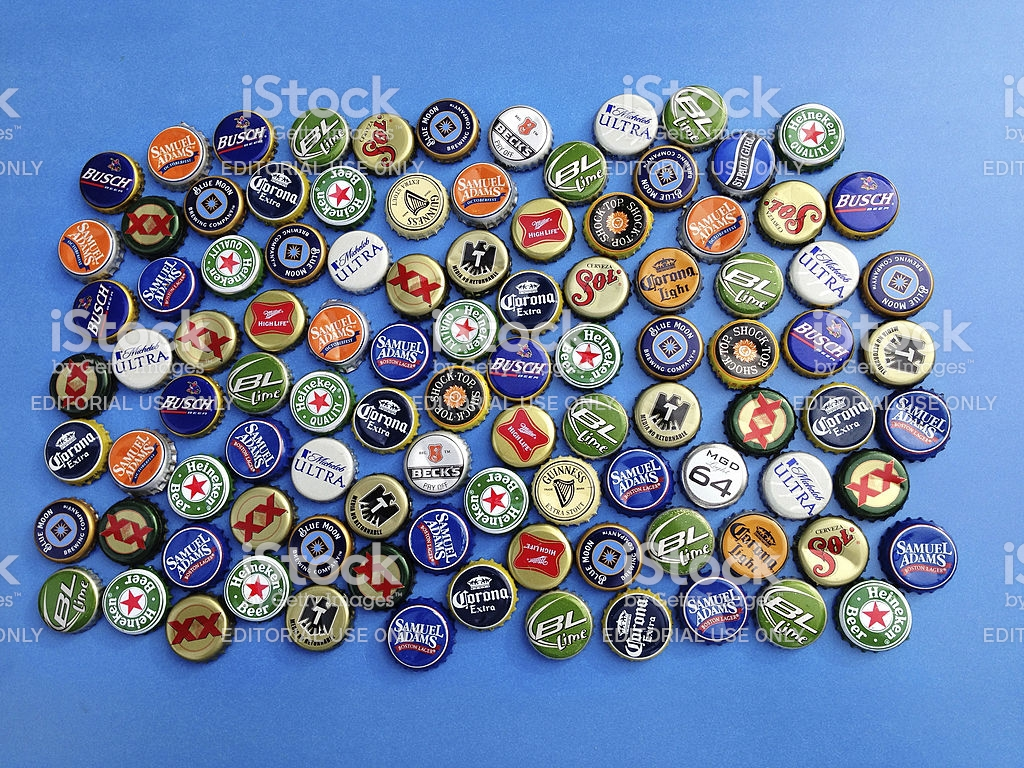corona: (445, 557, 519, 635), (597, 587, 672, 663), (802, 383, 876, 452), (40, 418, 110, 486), (349, 389, 419, 456), (494, 270, 562, 334), (242, 161, 310, 225)
heineken: (832, 574, 914, 657), (461, 465, 532, 537), (102, 566, 170, 639), (553, 323, 622, 393), (222, 552, 288, 625), (166, 452, 232, 521), (780, 103, 847, 168), (287, 370, 353, 435), (197, 232, 262, 298), (431, 297, 497, 361), (308, 165, 372, 226)
